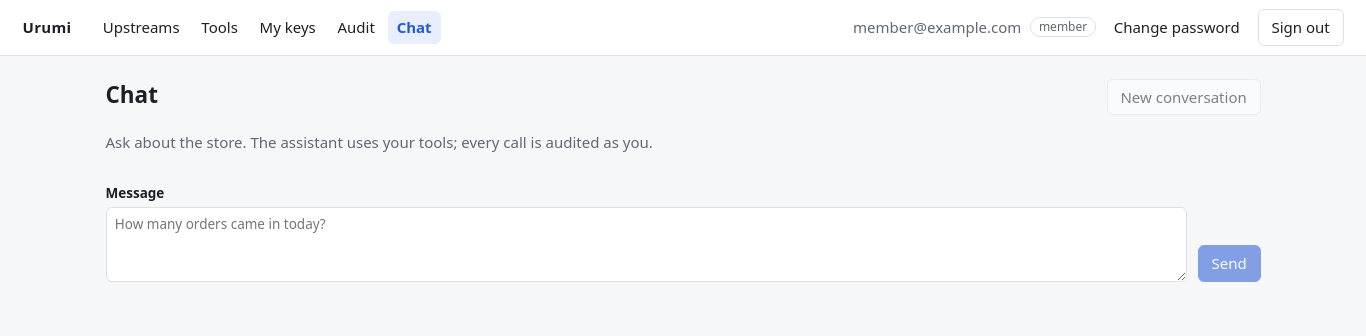
chat page › shows the envelope error, e.g. chat not configured
The image size is (1366, 336).
Type "hello" into the text box labelled "Message".
click(646, 244); type("hello")  # box [106,207,1186,282]
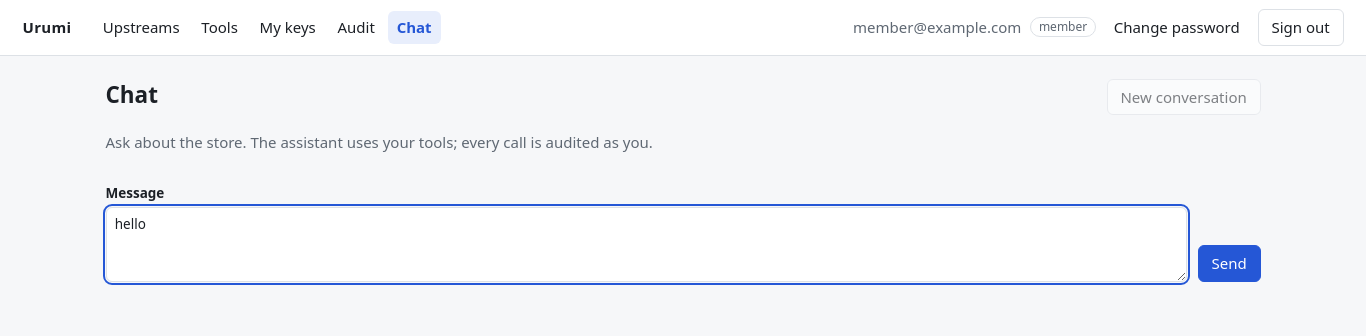
Click the button "Send".
click(1229, 264)  # box [1198,245,1260,282]
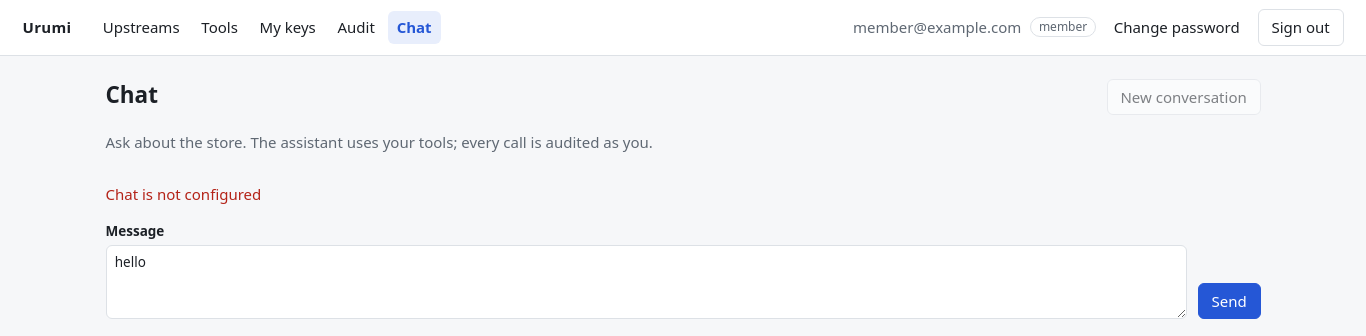
Expected: the message reads "Chat is not configured", [106,184,261,204]
